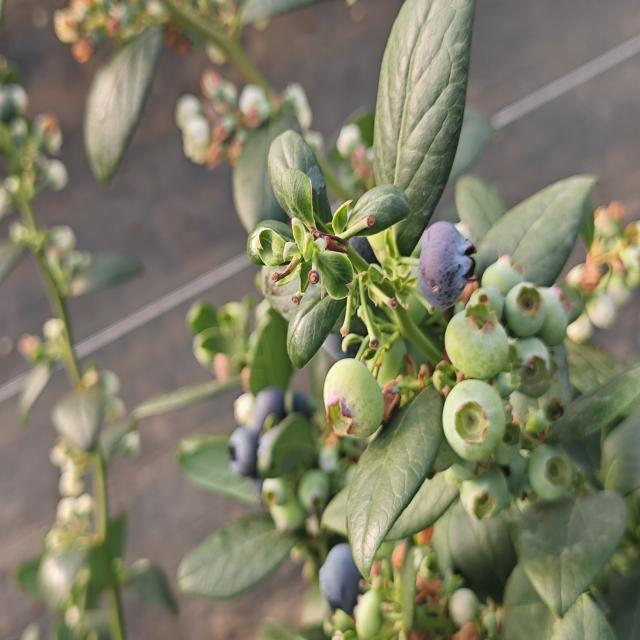ripe: (414, 218, 479, 314), (316, 314, 371, 361), (316, 549, 357, 611), (223, 421, 263, 483), (342, 219, 388, 266), (250, 382, 290, 428)
